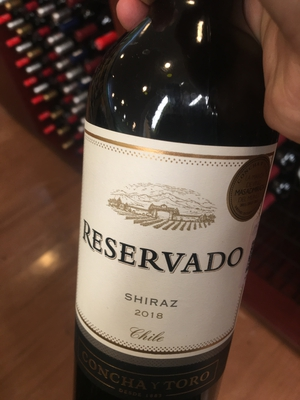reservado shiraz: (75, 39, 277, 400)
